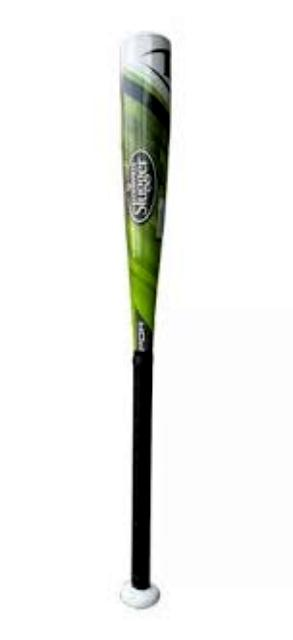baseball bat: (118, 29, 172, 607)
